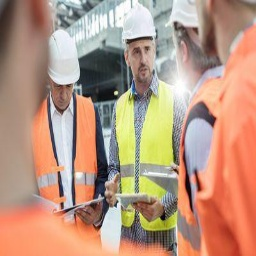helmet: (44, 29, 83, 87), (121, 4, 157, 40)
person: (113, 5, 184, 253), (33, 15, 106, 236)
vest: (115, 79, 177, 230), (33, 94, 103, 215)
